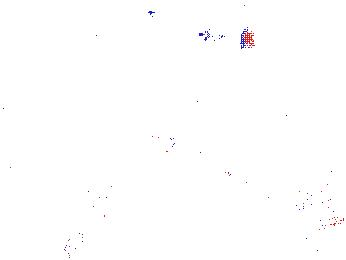X-ray fish: (263, 94, 294, 127)
glassfish: (146, 131, 239, 192), (66, 172, 126, 254)
redtail glassfish: (197, 22, 251, 51)
